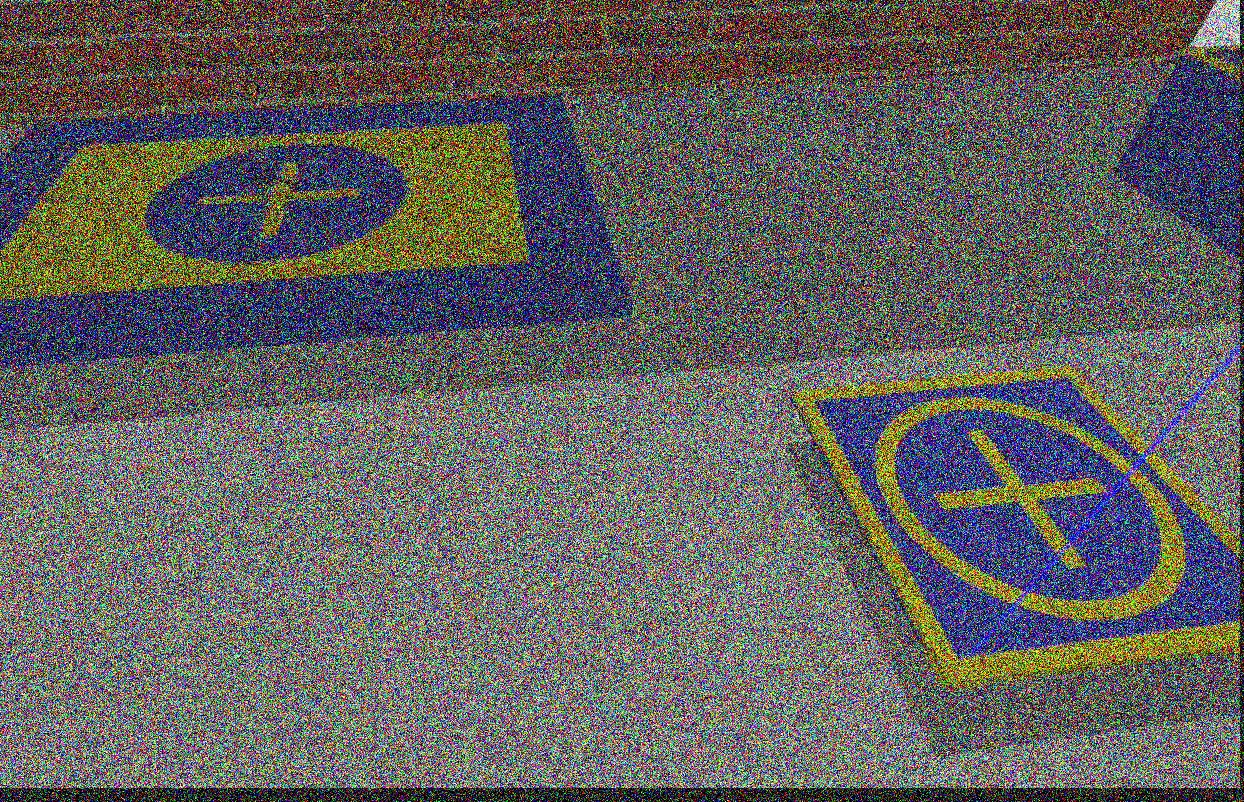large_base: (0, 99, 631, 369)
small_base: (793, 369, 1244, 689)
